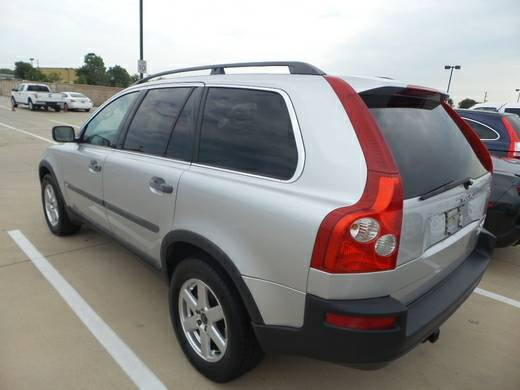volvo: (25, 56, 520, 385)
